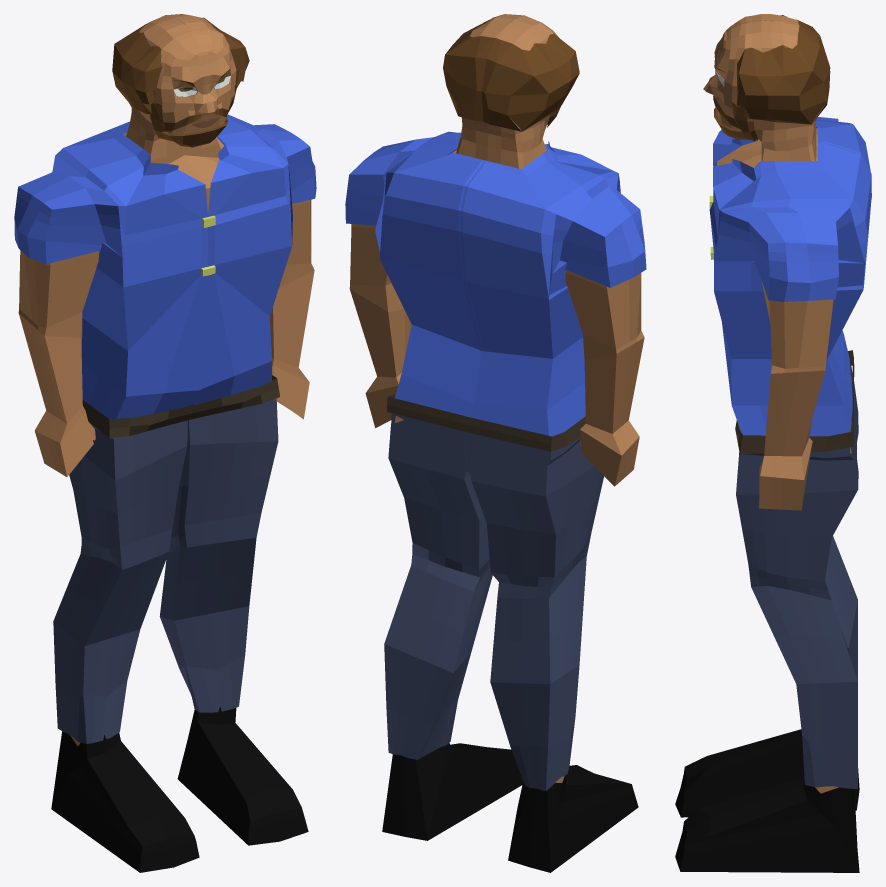
Rendered from janitor copy.fbx.
3 renders of one model, left to right at view 1: azimuth 30°, elevation 25°; view 2: azimuth 150°, elevation 25°; view 3: azimuth 270°, elevation 25°, orthographic.
Visible parts, largest first — view 1: Cube.001, Cube.002, Cube, Cube.003, Cube.006, Cube.004, Cube.008; view 2: Cube.001, Cube.002, Cube, Cube.003, Cube.006, Cube.004; view 3: Cube.001, Cube.002, Cube.003, Cube, Cube.006, Cube.004, Cube.008.
Boxes of the visible parts, left/top/right/bottom form: Cube.001: left=14, top=114, right=316, bottom=418; Cube.002: left=53, top=398, right=278, bottom=743; Cube: left=18, top=14, right=314, bottom=746; Cube.003: left=51, top=706, right=308, bottom=872; Cube.006: left=112, top=14, right=249, bottom=115; Cube.004: left=82, top=375, right=279, bottom=438; Cube.008: left=150, top=85, right=236, bottom=147; Cube.001: left=345, top=131, right=646, bottom=436; Cube.002: left=384, top=413, right=603, bottom=791; Cube: left=349, top=14, right=644, bottom=782; Cube.003: left=382, top=742, right=638, bottom=872; Cube.006: left=443, top=19, right=579, bottom=131; Cube.004: left=387, top=394, right=585, bottom=451; Cube.001: left=709, top=117, right=871, bottom=436; Cube.002: left=736, top=356, right=858, bottom=788; Cube.003: left=675, top=729, right=859, bottom=872; Cube: left=703, top=14, right=851, bottom=793; Cube.006: left=737, top=15, right=830, bottom=124; Cube.004: left=735, top=350, right=854, bottom=453; Cube.008: left=714, top=101, right=757, bottom=140.
Size of the model in its own units: 197 by 524 by 115.
